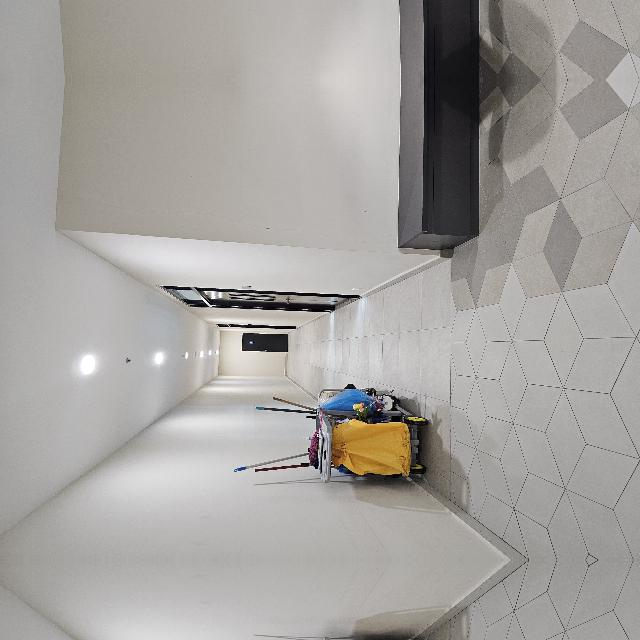door: (202, 316, 228, 370)
obstacle: (72, 313, 178, 512), (307, 474, 478, 560), (307, 559, 478, 640), (72, 608, 177, 640)
